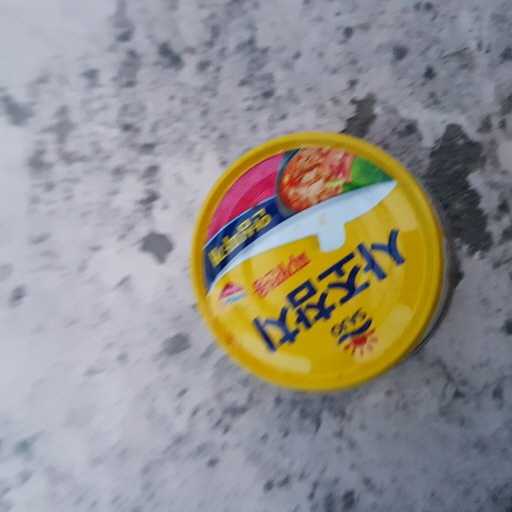Metal_1: (187, 131, 453, 391)
